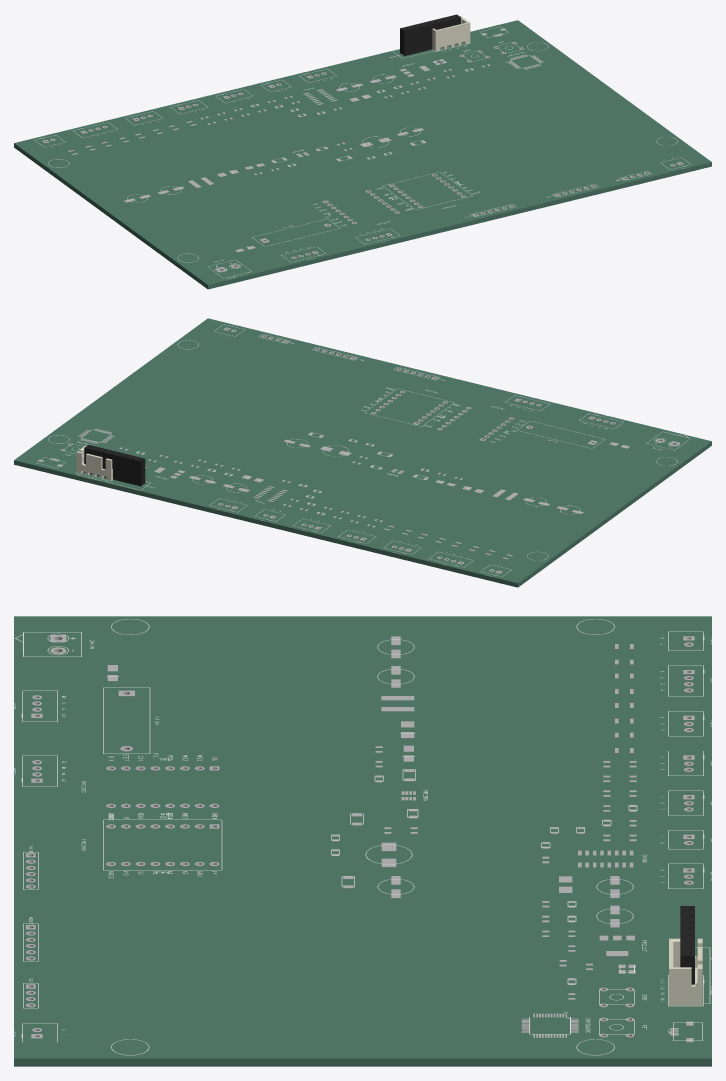
The model's file is key_disp.glb.
The picture shows the model from 3 angles, top to bottom: view 1: azimuth 30°, elevation 25°; view 2: azimuth 150°, elevation 25°; view 3: azimuth 270°, elevation 25°; orthographic projection. The views are drawn at different scales.
Parts seen in each view (by area): view 1: =>[0:1:1:8], =>[0:1:1:6], =>[0:1:1:7], =>[0:1:1:5], =>[0:1:1:3]; view 2: =>[0:1:1:8], =>[0:1:1:6], =>[0:1:1:7], =>[0:1:1:5], =>[0:1:1:3]; view 3: =>[0:1:1:8], =>[0:1:1:6], =>[0:1:1:7], =>[0:1:1:3], =>[0:1:1:5].
Boxes of the visible parts, left/top/right/bottom form: =>[0:1:1:8]: left=14, top=20, right=711, bottom=289; =>[0:1:1:6]: left=42, top=28, right=683, bottom=272; =>[0:1:1:7]: left=34, top=26, right=690, bottom=278; =>[0:1:1:5]: left=400, top=14, right=460, bottom=56; =>[0:1:1:3]: left=432, top=16, right=470, bottom=51; =>[0:1:1:8]: left=14, top=318, right=711, bottom=587; =>[0:1:1:6]: left=38, top=327, right=679, bottom=573; =>[0:1:1:7]: left=37, top=324, right=690, bottom=576; =>[0:1:1:5]: left=84, top=444, right=145, bottom=486; =>[0:1:1:3]: left=76, top=445, right=112, bottom=480; =>[0:1:1:8]: left=14, top=616, right=711, bottom=1066; =>[0:1:1:6]: left=26, top=635, right=694, bottom=1042; =>[0:1:1:7]: left=14, top=618, right=711, bottom=1055; =>[0:1:1:3]: left=669, top=938, right=702, bottom=1005; =>[0:1:1:5]: left=680, top=906, right=694, bottom=984.
Size of the model in its own units: 0.18 by 0.0119 by 0.12.
